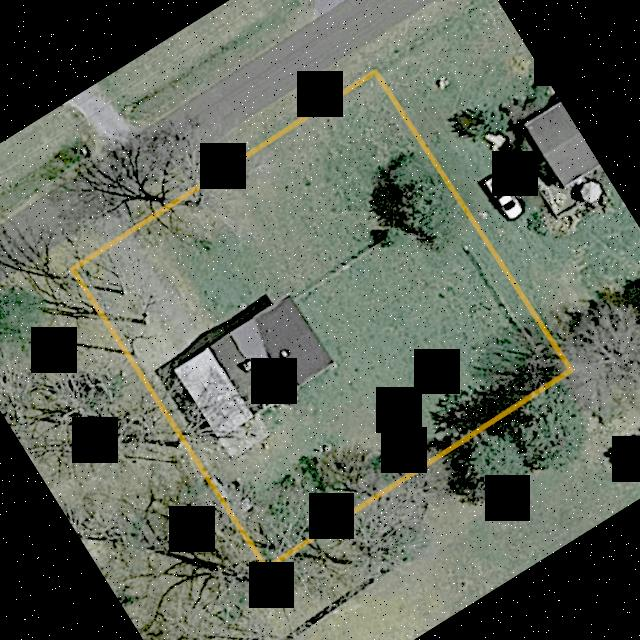Driveway: (105, 231, 209, 363)
Extra Driveway: (84, 202, 136, 249)
Extra Lawn: (119, 47, 373, 224), (54, 225, 99, 267)
House: (173, 292, 337, 440)
Other: (219, 417, 267, 458)
